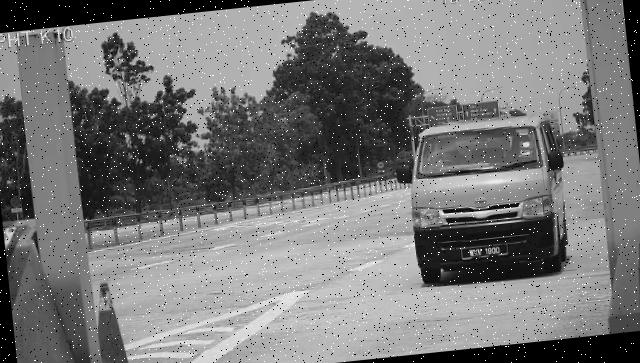License_Plate: (461, 243, 510, 264)
van: (404, 113, 574, 289)
